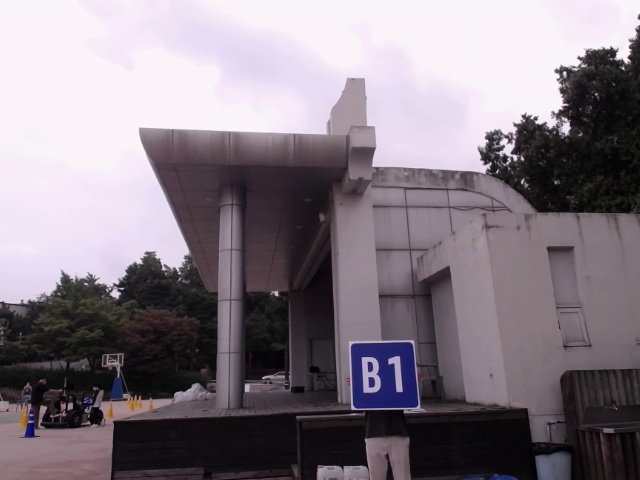delivery_b1: (348, 341, 420, 410)
